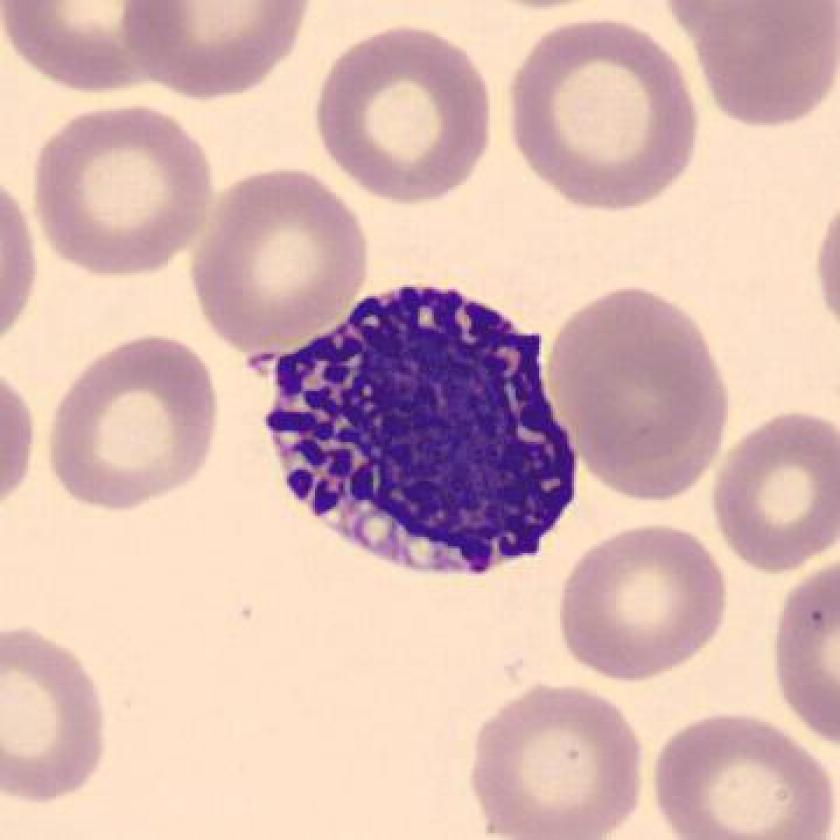basophil: (256, 286, 592, 577)
